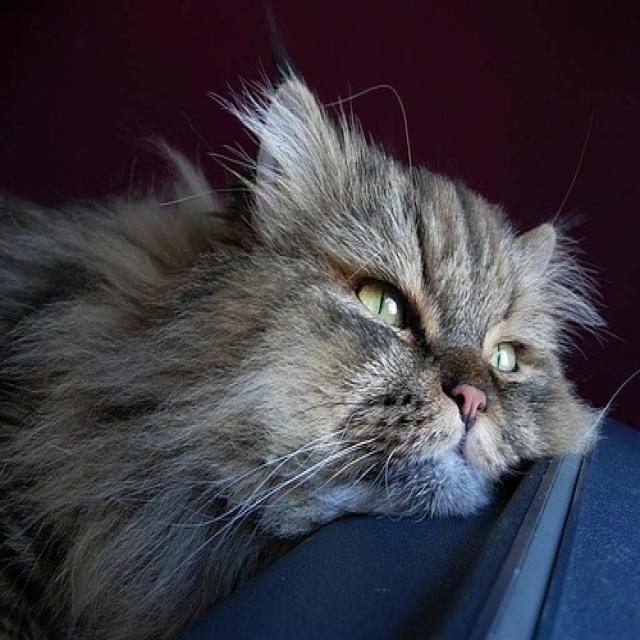cat: (0, 4, 607, 638)
